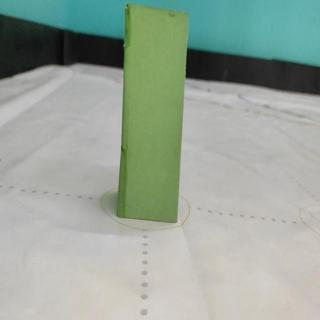greenbox: (119, 0, 191, 226)
